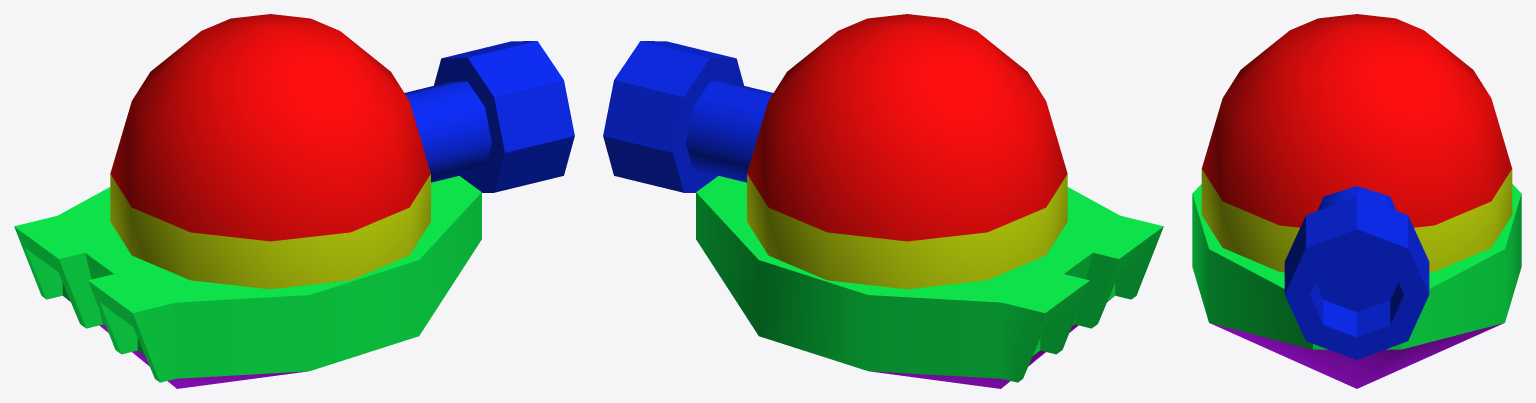
Rendered from Enemy_Fighter.FBX.
3 renders of one model, left to right at view 1: azimuth 30°, elevation 25°; view 2: azimuth 150°, elevation 25°; view 3: azimuth 270°, elevation 25°, orthographic. The views are drawn at different scales.
Parts seen in each view (by area): view 1: Enemy_Fighter; view 2: Enemy_Fighter; view 3: Enemy_Fighter.
Part boxes in pixels (x1=…): Enemy_Fighter: x1=14, y1=14, x2=574, y2=388; Enemy_Fighter: x1=603, y1=14, x2=1163, y2=388; Enemy_Fighter: x1=1192, y1=14, x2=1521, y2=388.
Size of the model in its own units: 10.63 by 7.39 by 6.74.
